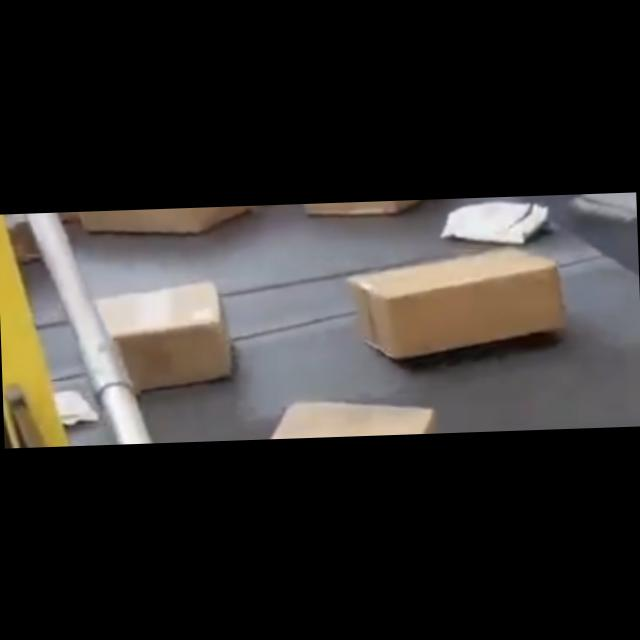box: (348, 244, 570, 360), (88, 278, 229, 398), (264, 398, 432, 440), (78, 206, 255, 233)
mailer: (441, 200, 548, 244)
